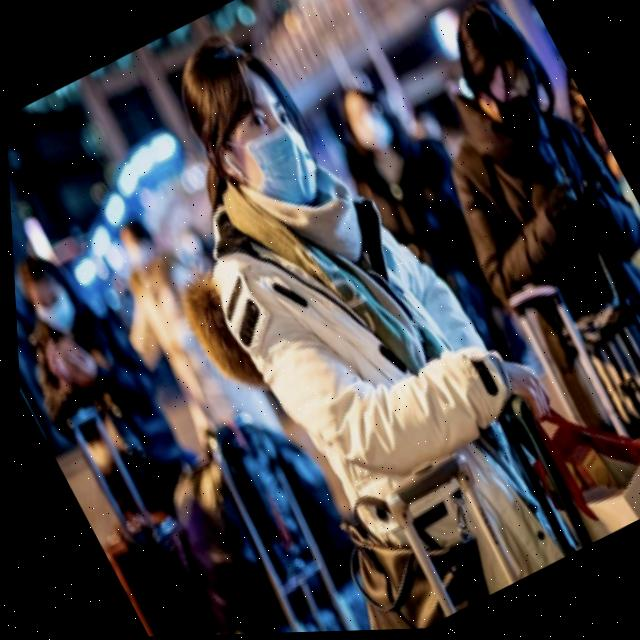Mask: (209, 105, 329, 225), (474, 65, 551, 141), (341, 102, 399, 166), (26, 283, 81, 340)
